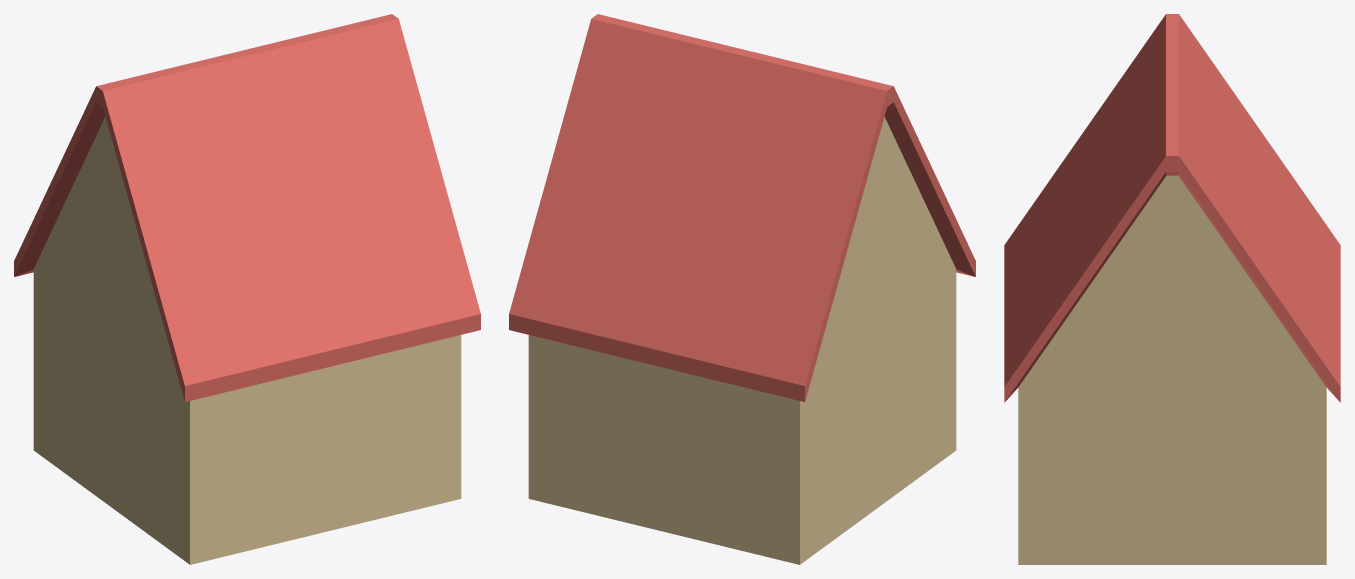
The model's file is house_01.fbx.
3 views of the same model, side by side, from view 1: azimuth 30°, elevation 25°; view 2: azimuth 150°, elevation 25°; view 3: azimuth 270°, elevation 25° (orthographic).
Parts seen in each view (by area): view 1: House; view 2: House; view 3: House.
Boxes of the visible parts, x1,y1,x2,y2 form: House: [14, 14, 480, 564]; House: [509, 14, 975, 564]; House: [1004, 14, 1340, 564].
Size of the model in its own units: 484 by 659 by 484.
